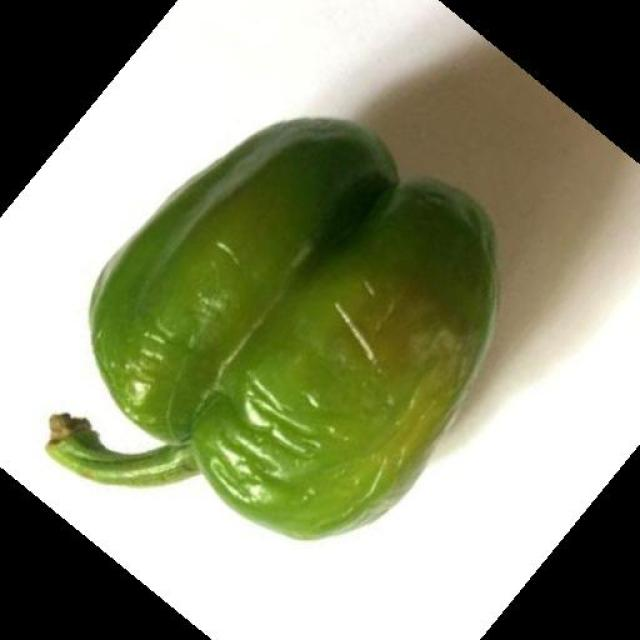Stale_Capsicum: (82, 136, 457, 494)
